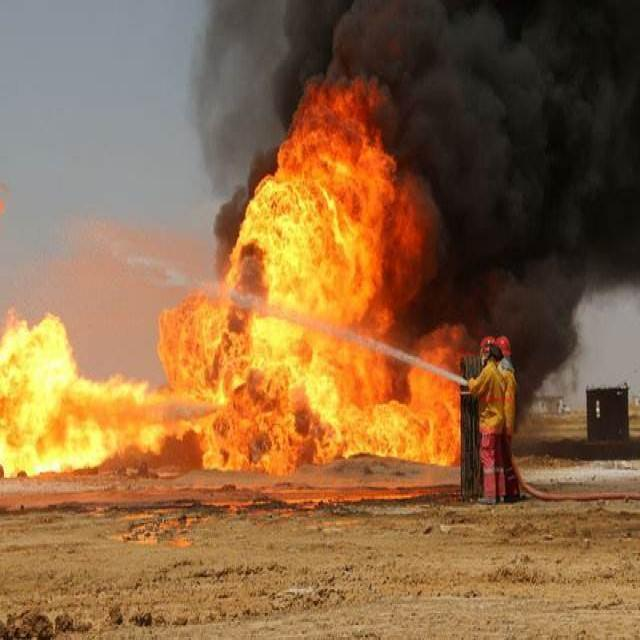Fire: (154, 108, 456, 464), (0, 307, 150, 477)
Smoke: (460, 1, 640, 332), (183, 0, 458, 106)
